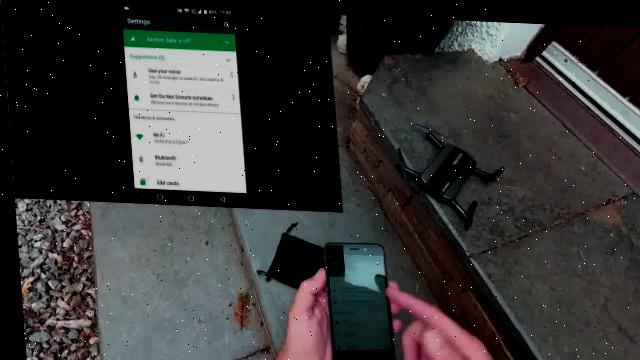drone: (369, 102, 524, 244)
